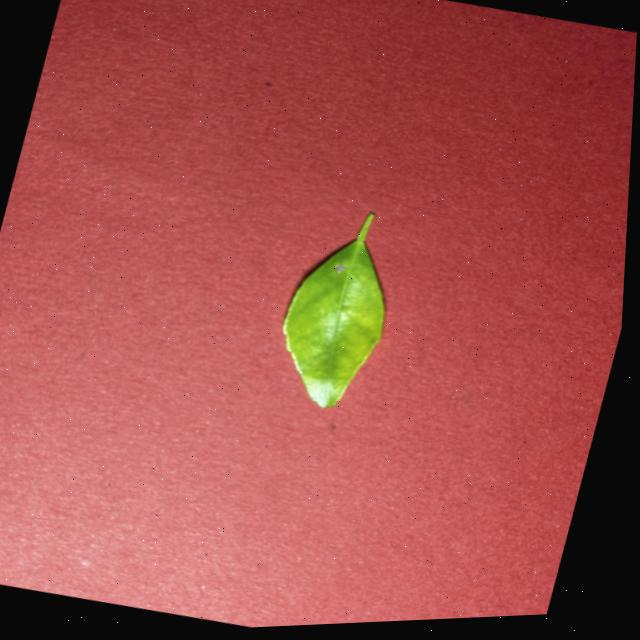greening: (282, 213, 384, 407)
